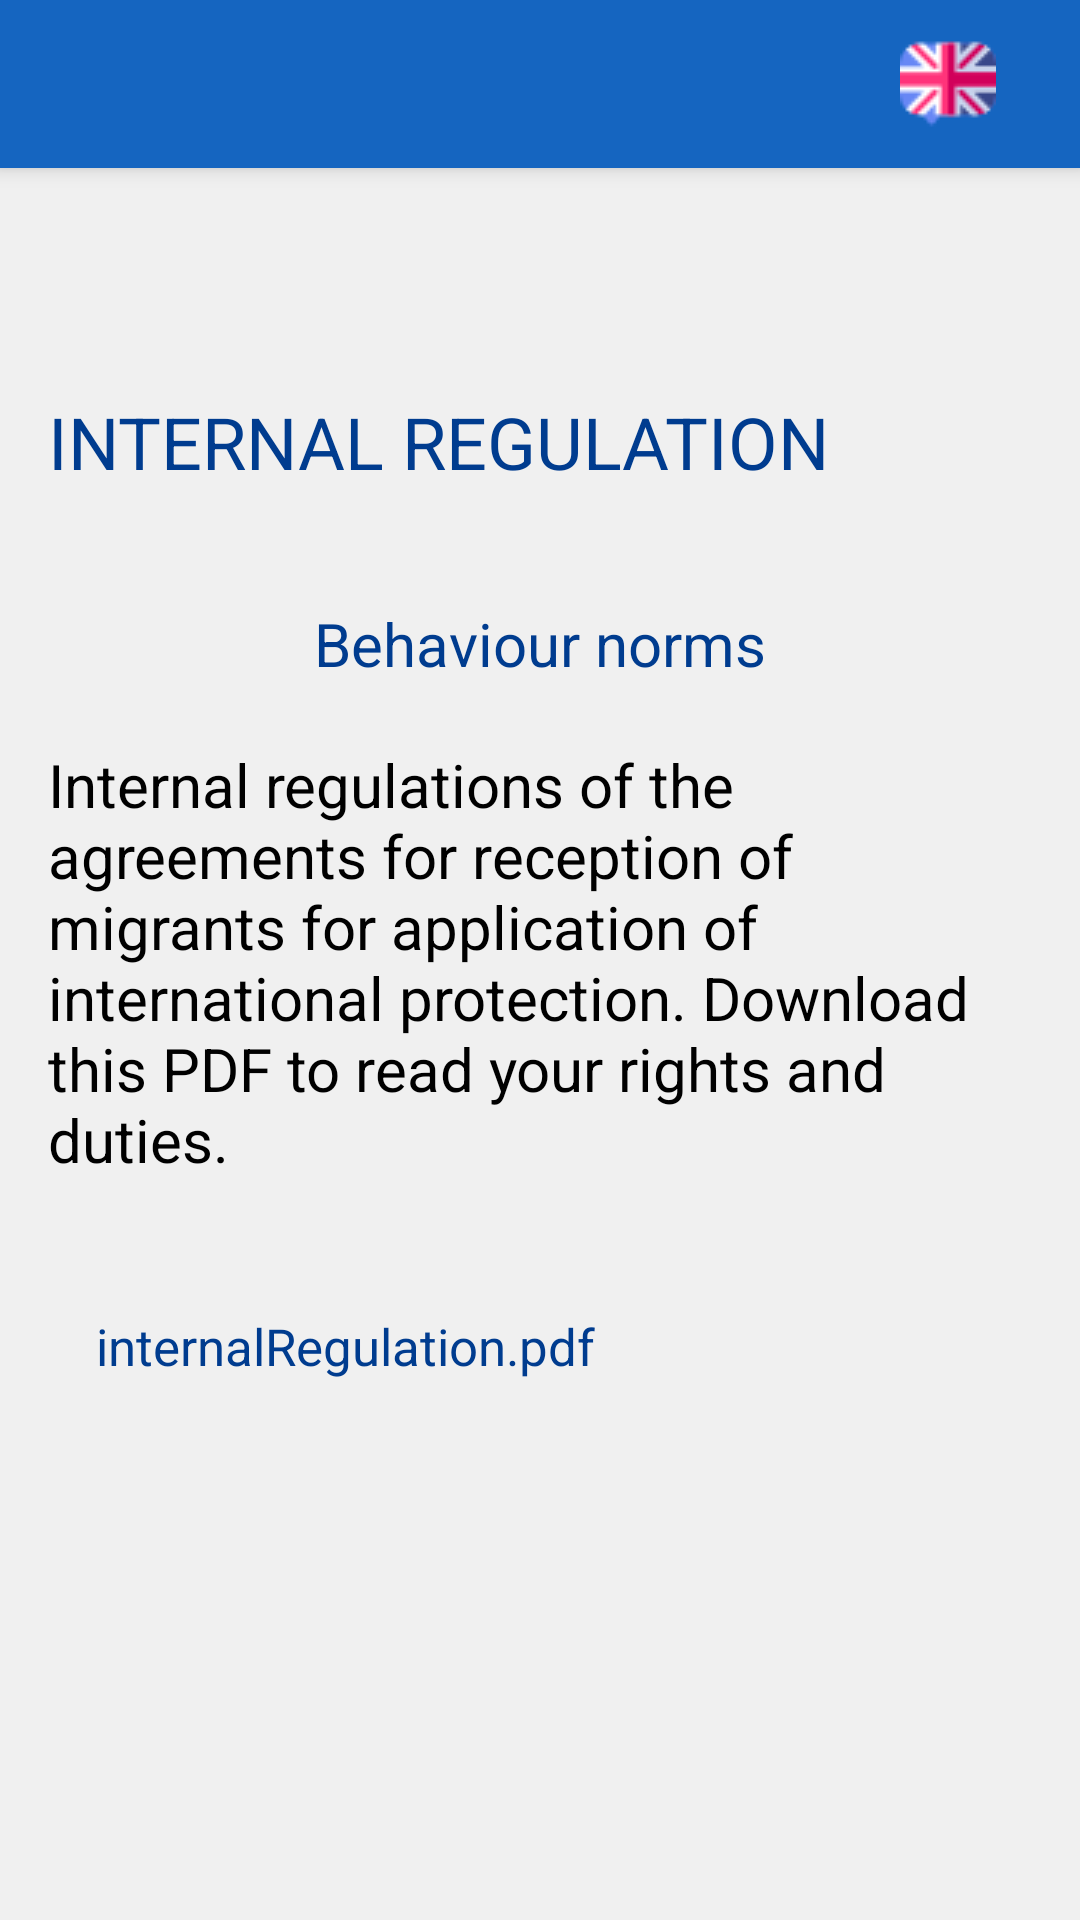

Screen size 1080px x 1920px. Icon name, then its box in pixels as (x1, y1, x2, y2):
lang: (900, 41, 996, 125)
